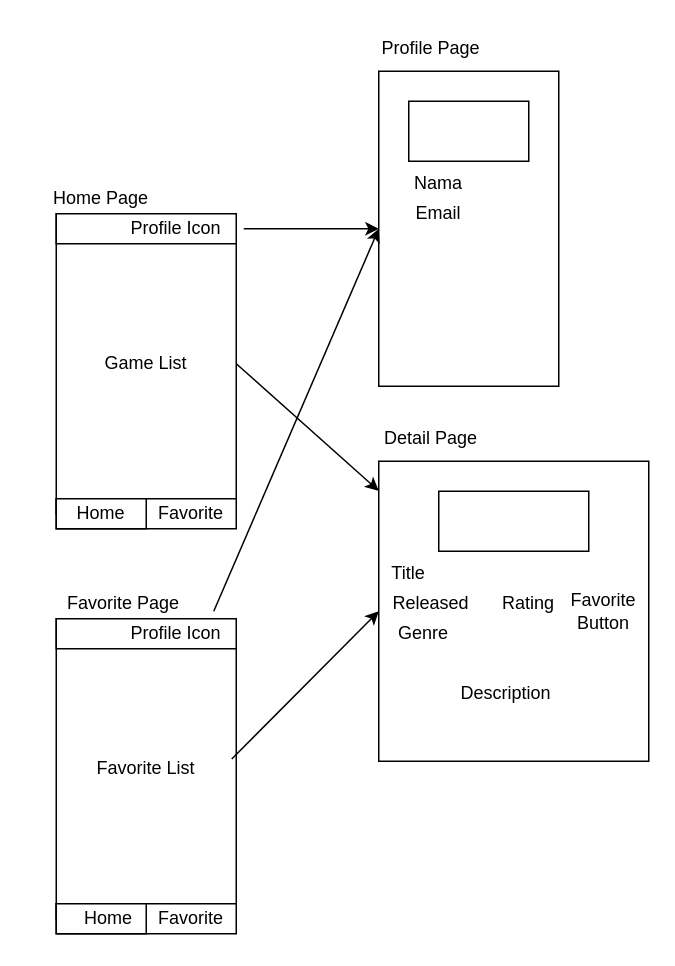
Image size: 675x966. Some labels were removed from this diagram. Here are the shapes that lost their labels. From the top down, the box of each, then its label:
(407, 100, 529, 161): Foto
(437, 490, 589, 551): Image
